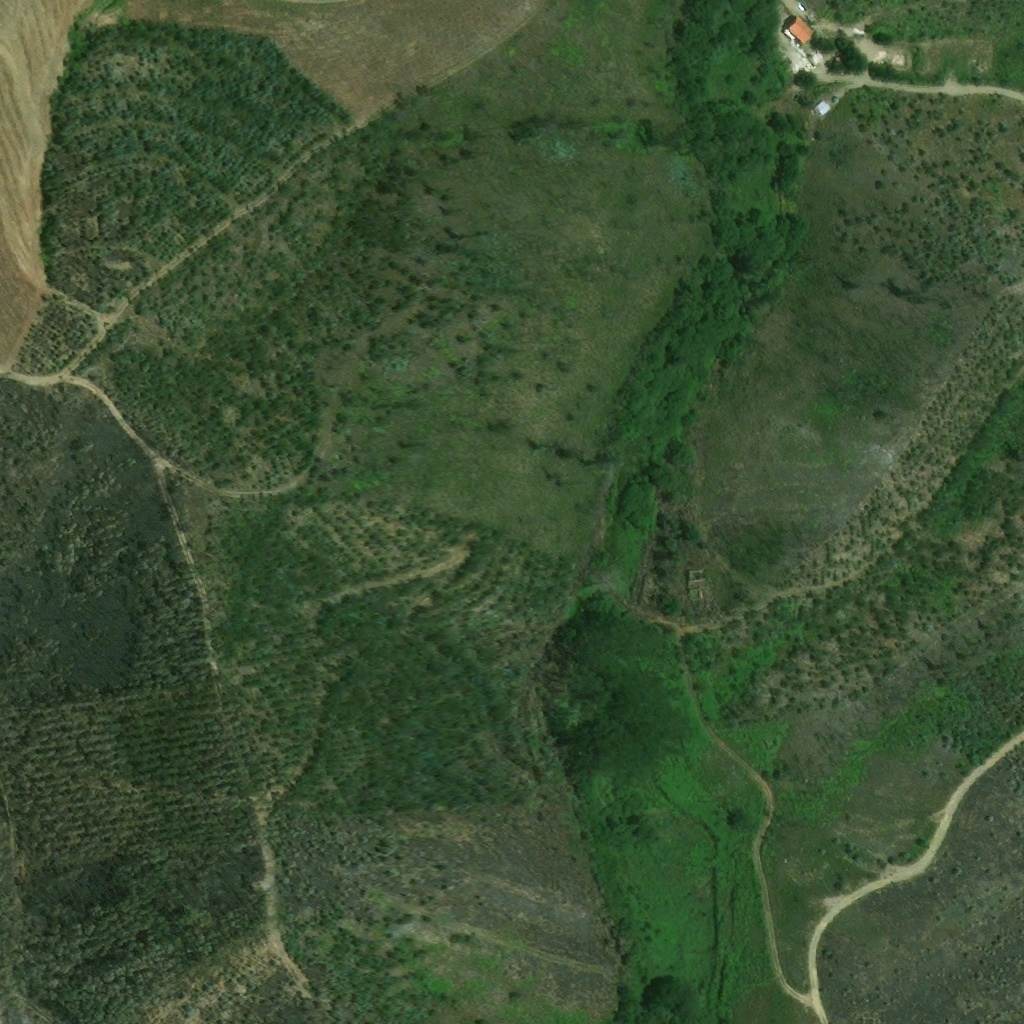0 no-damage: (783, 17, 817, 46), (814, 101, 829, 116)
